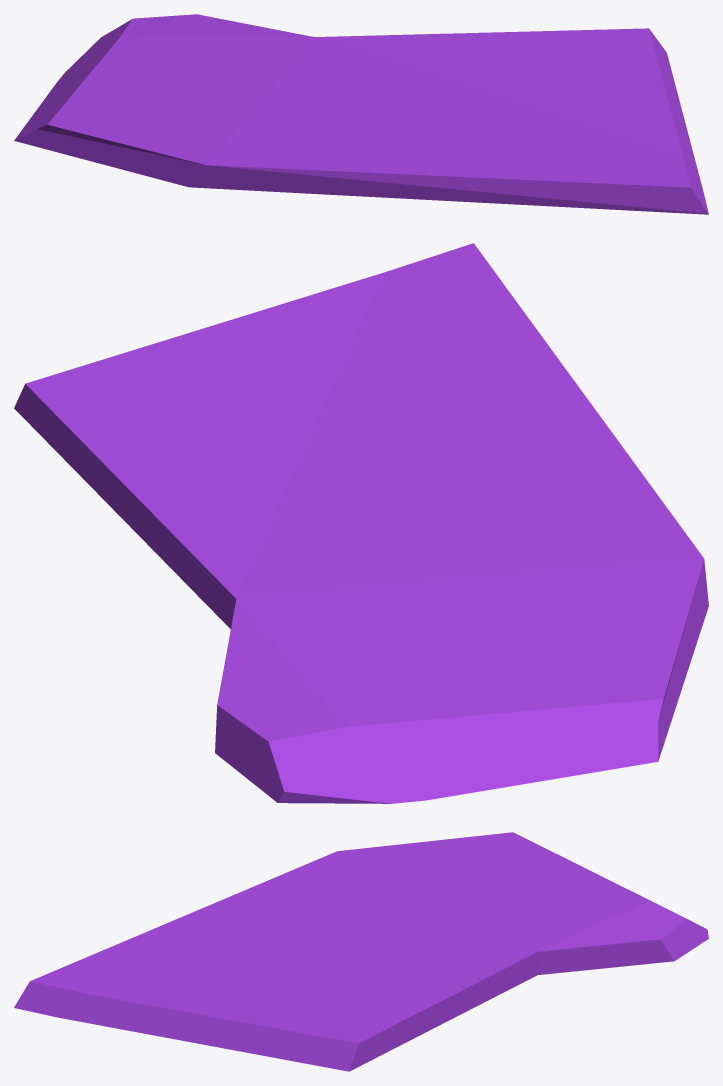
File: Glass_100_2_5_chunks.fbx
The picture shows the model from 3 angles, top to bottom: view 1: azimuth 30°, elevation 25°; view 2: azimuth 150°, elevation 25°; view 3: azimuth 270°, elevation 25°; orthographic projection. The views are drawn at different scales.
Parts seen in each view (by area): view 1: Glass_100_2_5_0, Glass_100_2_5_9, Glass_100_2_5_3, Glass_100_2_5_8, Glass_100_2_5_11, Glass_100_2_5_4, Glass_100_2_5_6, Glass_100_2_5_15, Glass_100_2_5_13, Glass_100_2_5_18, Glass_100_2_5_2, Glass_100_2_5_10 (+4 smaller); view 2: Glass_100_2_5_0, Glass_100_2_5_4, Glass_100_2_5_3, Glass_100_2_5_13, Glass_100_2_5_11, Glass_100_2_5_8, Glass_100_2_5_6, Glass_100_2_5_18, Glass_100_2_5_15, Glass_100_2_5_2, Glass_100_2_5_10, Glass_100_2_5_9 (+4 smaller); view 3: Glass_100_2_5_0, Glass_100_2_5_3, Glass_100_2_5_13, Glass_100_2_5_2, Glass_100_2_5_11, Glass_100_2_5_8, Glass_100_2_5_4, Glass_100_2_5_18, Glass_100_2_5_6, Glass_100_2_5_15, Glass_100_2_5_10, Glass_100_2_5_9 (+4 smaller).
Boxes of the visible parts, x1,y1,x2,y2 form: Glass_100_2_5_0: (82, 14, 396, 88); Glass_100_2_5_9: (221, 148, 583, 207); Glass_100_2_5_3: (513, 98, 708, 214); Glass_100_2_5_8: (148, 86, 316, 188); Glass_100_2_5_11: (431, 28, 647, 116); Glass_100_2_5_4: (14, 53, 172, 152); Glass_100_2_5_6: (69, 93, 250, 181); Glass_100_2_5_15: (406, 139, 680, 211); Glass_100_2_5_13: (367, 28, 647, 77); Glass_100_2_5_18: (307, 84, 422, 147); Glass_100_2_5_2: (563, 28, 688, 136); Glass_100_2_5_10: (291, 129, 580, 184); Glass_100_2_5_0: (184, 545, 420, 803); Glass_100_2_5_4: (334, 643, 671, 803); Glass_100_2_5_3: (219, 243, 477, 406); Glass_100_2_5_13: (26, 384, 287, 597); Glass_100_2_5_11: (27, 384, 379, 491); Glass_100_2_5_8: (395, 520, 708, 623); Glass_100_2_5_6: (479, 584, 702, 703); Glass_100_2_5_18: (372, 447, 524, 562); Glass_100_2_5_15: (439, 249, 525, 450); Glass_100_2_5_2: (14, 323, 294, 444); Glass_100_2_5_10: (523, 315, 597, 521); Glass_100_2_5_9: (550, 348, 692, 543); Glass_100_2_5_0: (434, 888, 708, 990); Glass_100_2_5_3: (14, 956, 265, 1039); Glass_100_2_5_13: (359, 956, 506, 1055); Glass_100_2_5_2: (176, 987, 379, 1071); Glass_100_2_5_11: (265, 949, 391, 1042); Glass_100_2_5_8: (323, 844, 451, 923); Glass_100_2_5_4: (489, 832, 625, 896); Glass_100_2_5_18: (265, 903, 441, 942); Glass_100_2_5_6: (401, 835, 503, 898); Glass_100_2_5_15: (36, 919, 271, 978); Glass_100_2_5_10: (100, 885, 349, 951); Glass_100_2_5_9: (133, 857, 326, 937).
Size of the model in its own units: 958 by 110 by 1118.
